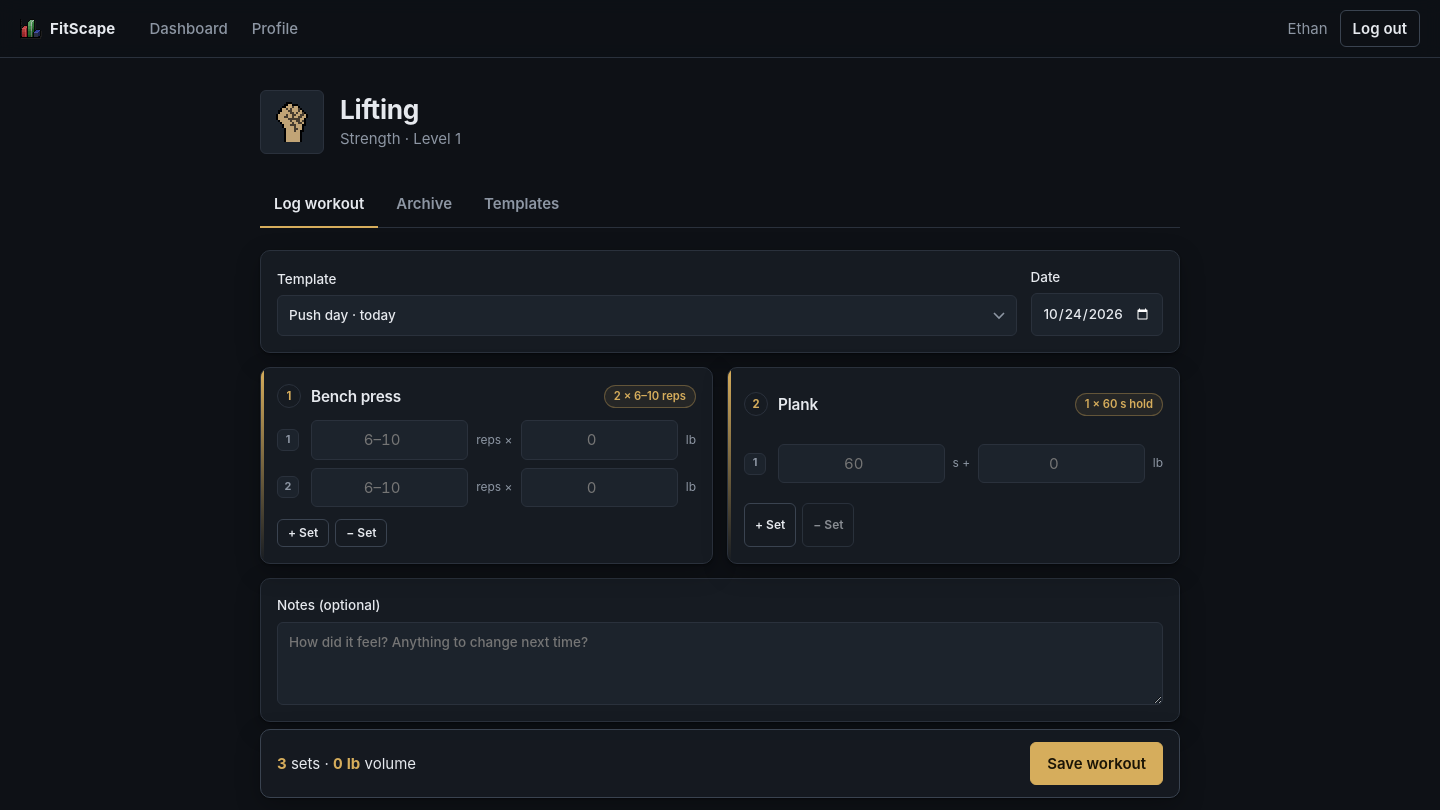
Log workout › rebuilds the form when another template is picked, and sets can be added
This screenshot has width=1440, height=810.
Select "Leg day" in the dropdown labelled "Template" at (647, 316), box 277,295 -> 1016,336
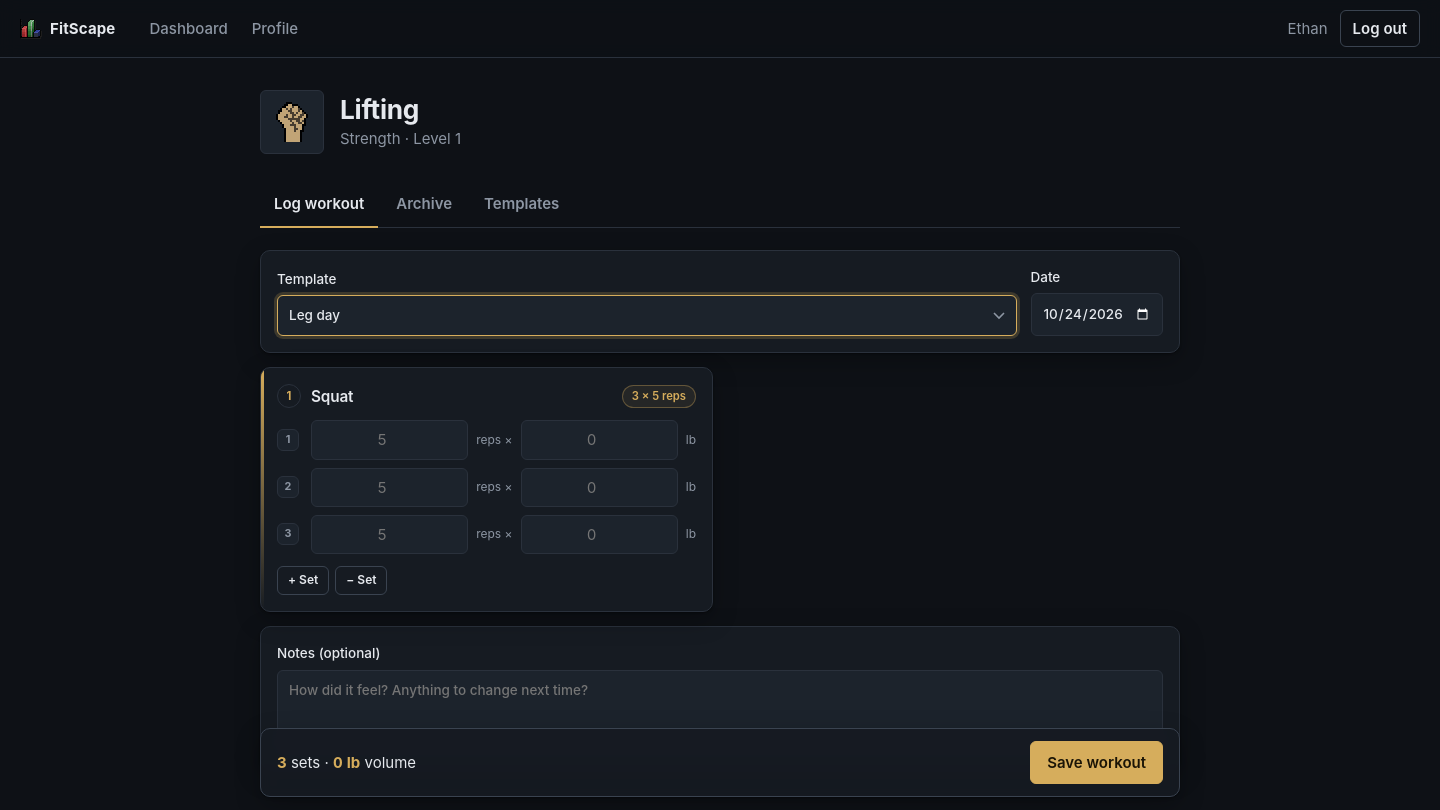
Expected: the number of number fields labelled "5" is 3, 311,420 -> 468,460; 311,468 -> 468,507; 311,515 -> 468,554
Expected: the heading "Squat" is shown, 311,387 -> 353,406
Expected: the heading "Bench press" is gone
Click the button "+ Set" at (303, 580), box 277,566 -> 329,595
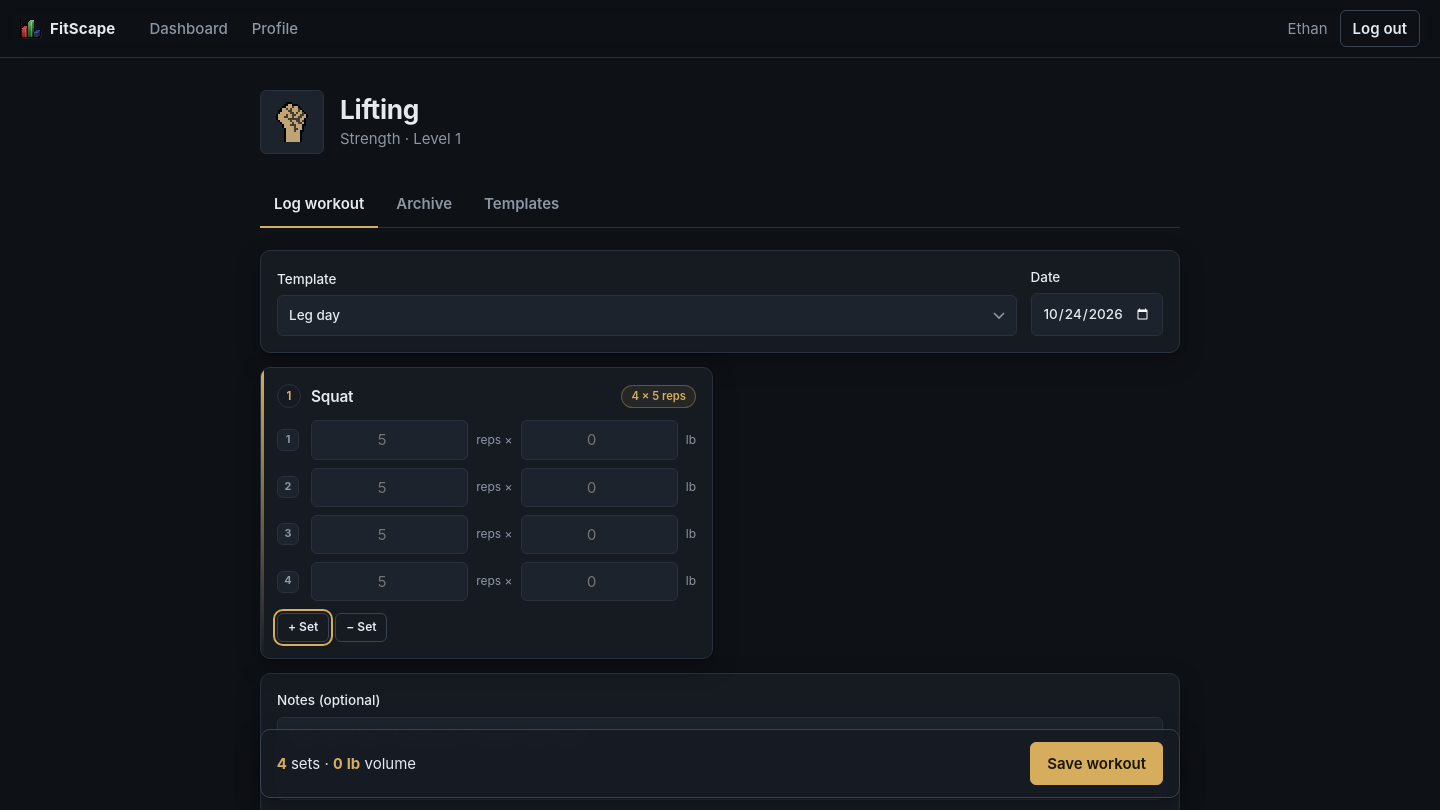
Expected: the number of number fields labelled "5" is 4, 311,420 -> 468,460; 311,468 -> 468,507; 311,515 -> 468,554; 311,562 -> 468,601
